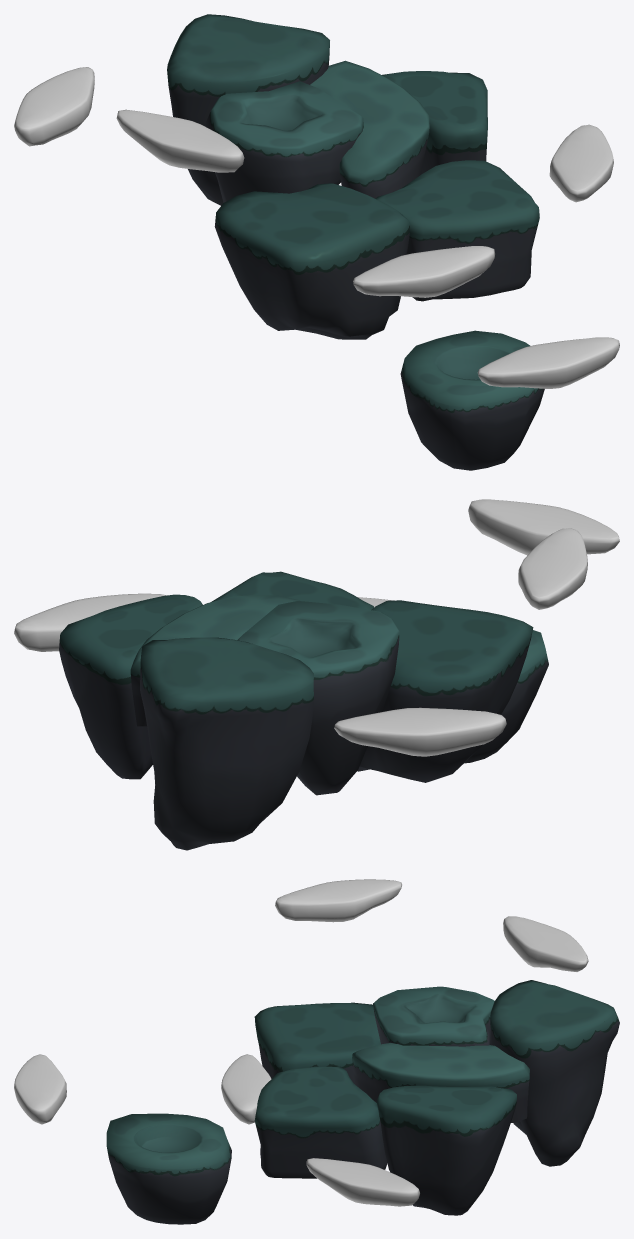
Rendered from All Land.fbx.
3 views of the same model, one above another, from view 1: azimuth 30°, elevation 25°; view 2: azimuth 150°, elevation 25°; view 3: azimuth 270°, elevation 25° (orthographic). The views are drawn at different scales.
Visible parts, largest first — view 1: Land_04_low1, Land_7_low, Land_05_low1, Land_06_low, Land_01_Low1, Land_03_Low1, Land_02_low1, floating_rock_low_5, floating_rock_low_1, floating_rock_low_2, floating_rock_low_4, floating_rock_low_3; view 2: Land_01_Low1, Land_04_low1, Land_06_low, Land_02_low1, floating_rock_low_4, floating_rock_low_5, Land_03_Low1, floating_rock_low_2, floating_rock_low_3, Land_7_low, Land_05_low1; view 3: Land_01_Low1, Land_02_low1, Land_7_low, Land_05_low1, Land_03_Low1, Land_04_low1, Land_06_low, floating_rock_low_2, floating_rock_low_3, floating_rock_low_4, floating_rock_low_5, floating_rock_low_1.
Part boxes in pixels (box(x1,y1,x2,y2)): Land_04_low1: box(214, 183, 409, 339); Land_7_low: box(400, 330, 544, 470); Land_05_low1: box(375, 160, 539, 301); Land_06_low: box(205, 81, 363, 202); Land_01_Low1: box(167, 14, 329, 205); Land_03_Low1: box(310, 60, 429, 198); Land_02_low1: box(382, 71, 487, 175); floating_rock_low_5: box(477, 337, 619, 388); floating_rock_low_1: box(353, 246, 495, 297); floating_rock_low_2: box(116, 109, 244, 172); floating_rock_low_4: box(14, 67, 94, 146); floating_rock_low_3: box(549, 124, 613, 202); Land_01_Low1: box(140, 637, 313, 850); Land_04_low1: box(357, 600, 533, 782); Land_06_low: box(237, 601, 399, 795); Land_02_low1: box(59, 594, 202, 779); floating_rock_low_4: box(334, 707, 506, 756); floating_rock_low_5: box(468, 499, 619, 555); Land_03_Low1: box(130, 595, 300, 726); floating_rock_low_2: box(518, 528, 587, 609); floating_rock_low_3: box(14, 593, 166, 651); Land_7_low: box(464, 630, 548, 763); Land_05_low1: box(211, 571, 373, 609); Land_01_Low1: box(490, 980, 619, 1166); Land_02_low1: box(376, 1085, 516, 1215); Land_7_low: box(106, 1113, 231, 1224); Land_05_low1: box(254, 1066, 387, 1178); Land_03_Low1: box(352, 1043, 529, 1122); Land_04_low1: box(254, 1002, 380, 1084); Land_06_low: box(373, 986, 494, 1046); floating_rock_low_2: box(275, 879, 401, 922); floating_rock_low_3: box(306, 1158, 419, 1206); floating_rock_low_4: box(503, 916, 588, 971); floating_rock_low_5: box(14, 1054, 66, 1124); floating_rock_low_1: box(221, 1054, 271, 1124).
Bounding box in the file's own units: 5323 × 2923 × 6481.
